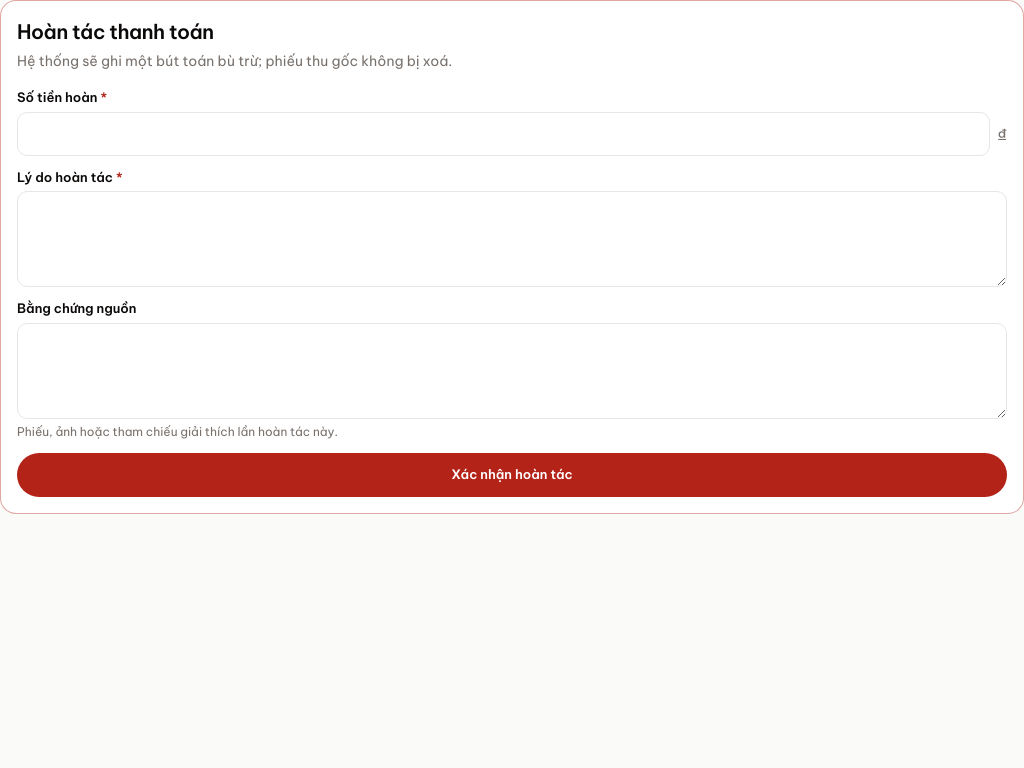
Test case: PaymentReversalPanel › requires an explanation before it asks to reverse a payment
In the field labelled "Số tiền hoàn": (503, 134) [17,112,990,156], type "100.000"
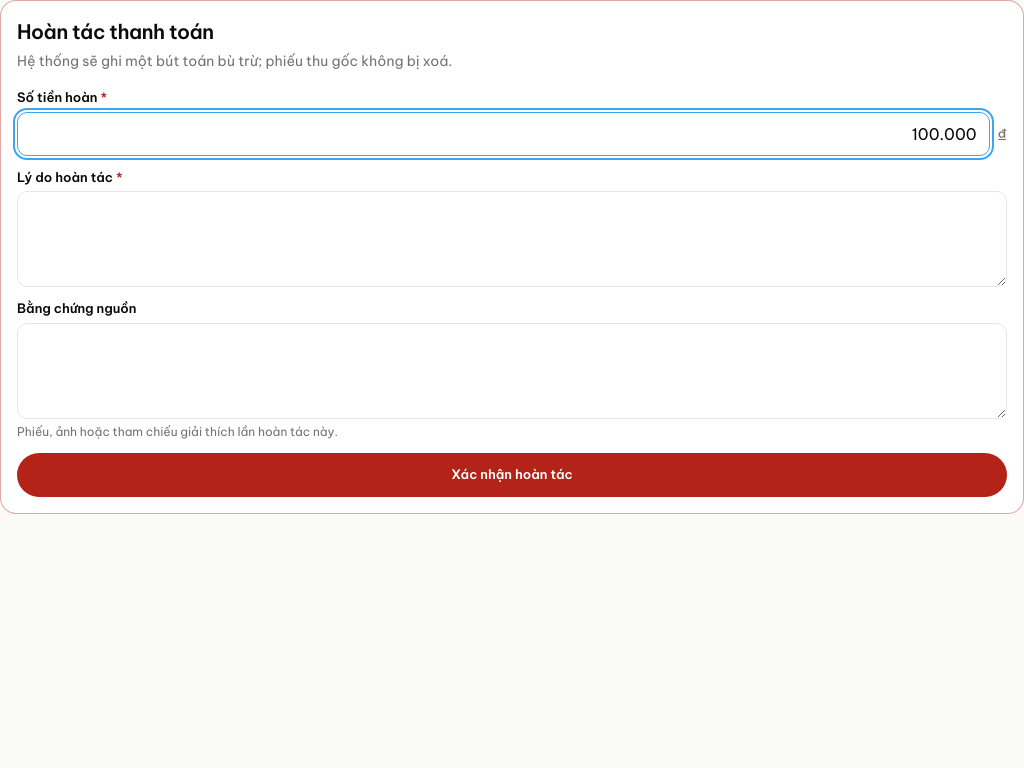
Click the button "Xác nhận hoàn tác": (512, 474) [17,452,1007,496]
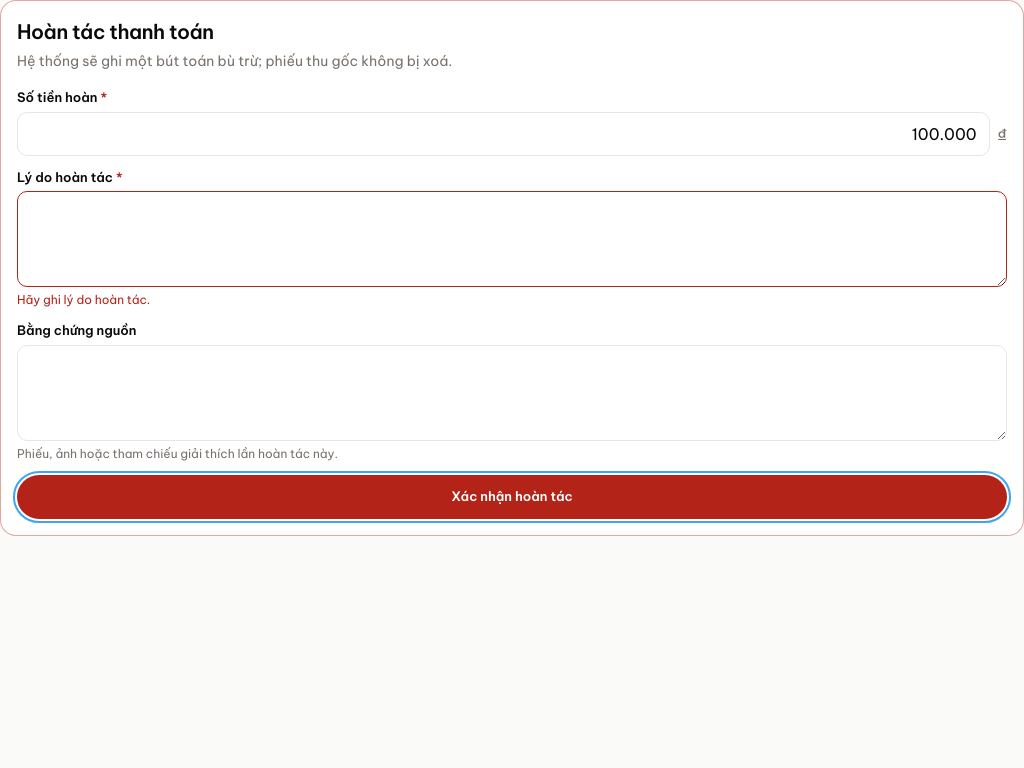
expect the text "Hãy ghi lý do hoàn tác." is shown: met, box [17,292,150,307]
